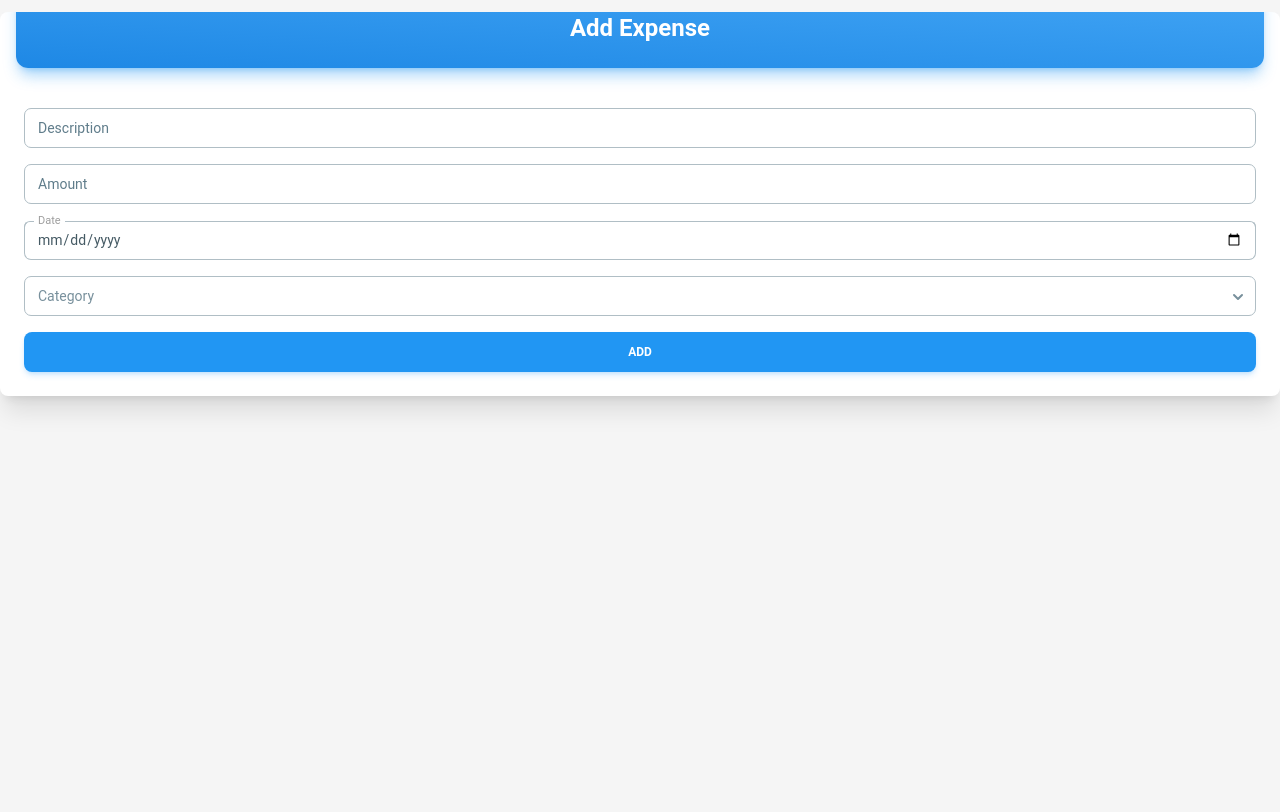
Test: ExpenseForm › shows validation errors for empty fields
Click the button "Add".
click(640, 352)  # box left=24, top=332, right=1256, bottom=372
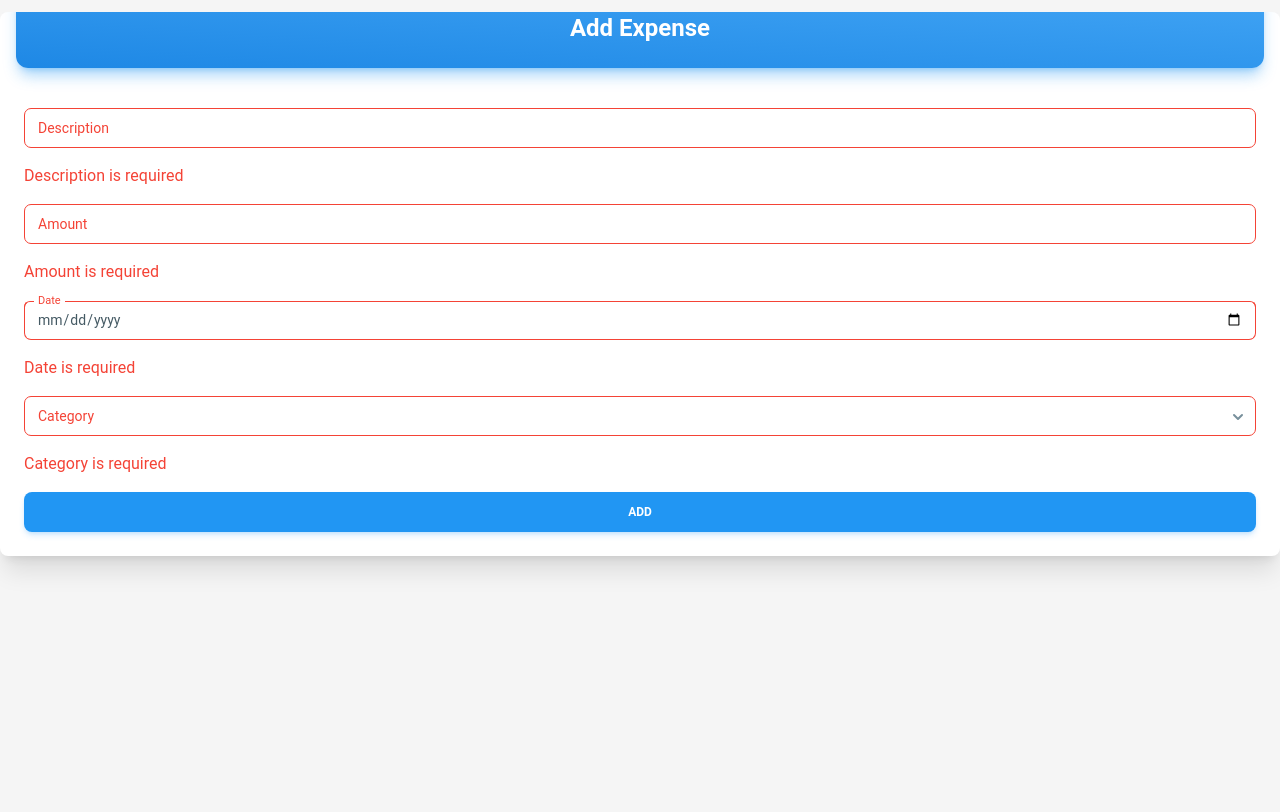
Expected: the text "Description is required" is shown, left=24, top=166, right=183, bottom=185
Expected: the text "Amount is required" is shown, left=24, top=262, right=159, bottom=281
Expected: the text "Date is required" is shown, left=24, top=358, right=135, bottom=377
